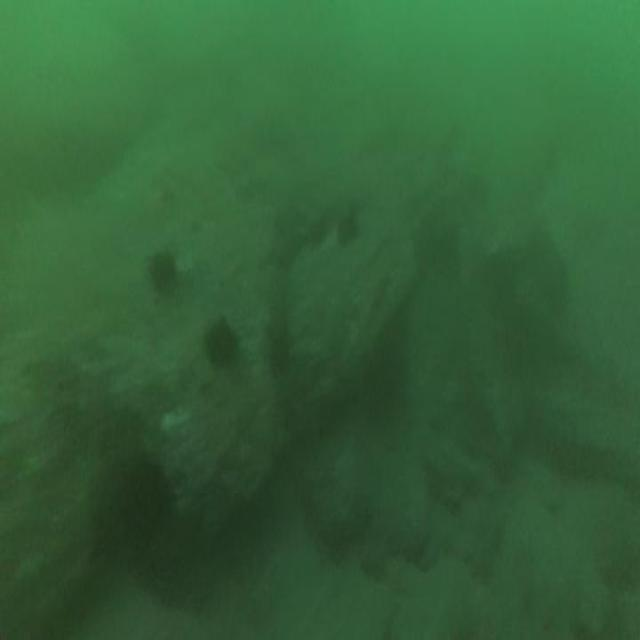echinus: (116, 466, 169, 544), (203, 321, 239, 366), (147, 256, 175, 296), (336, 216, 356, 246)
